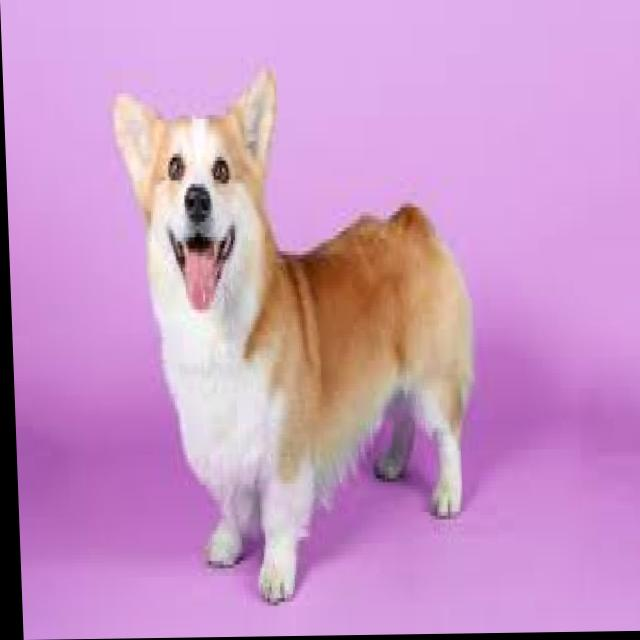CORGI: (73, 71, 489, 601)
